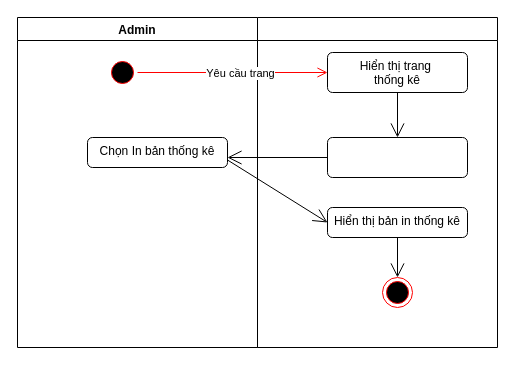
The diagram is 515 pixels wide and 365 high, and some of its shapes have lost their labels. Here are the shapes that lost their labels. From the top down, the box of each, then its label:
(326, 136, 468, 178): Truy vấn cơ sở dữ liệu
(256, 16, 498, 348): Hệ thống
